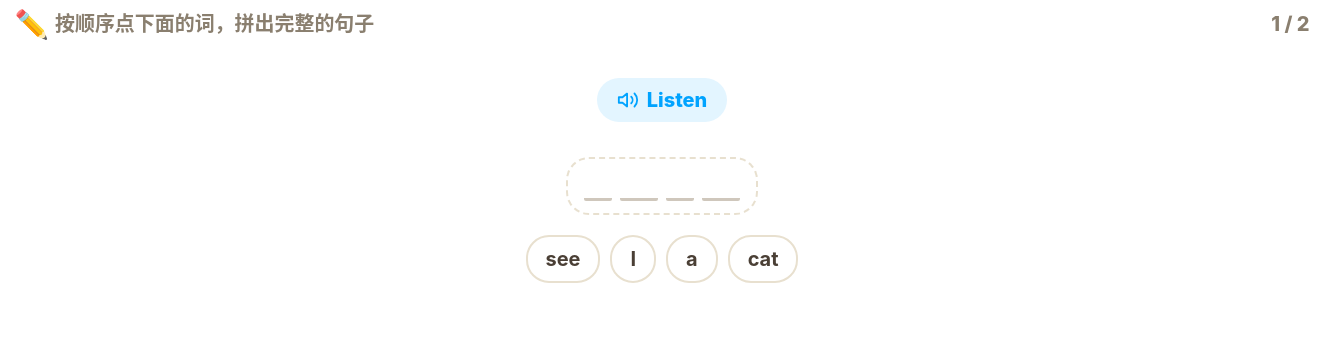
Test case: OrderView › 拼完第一句后显示 Next 按钮，点 Next 才切到第二句
Click the button with class "word-chip" showing "I".
click(633, 259)  # box [610,235,656,283]
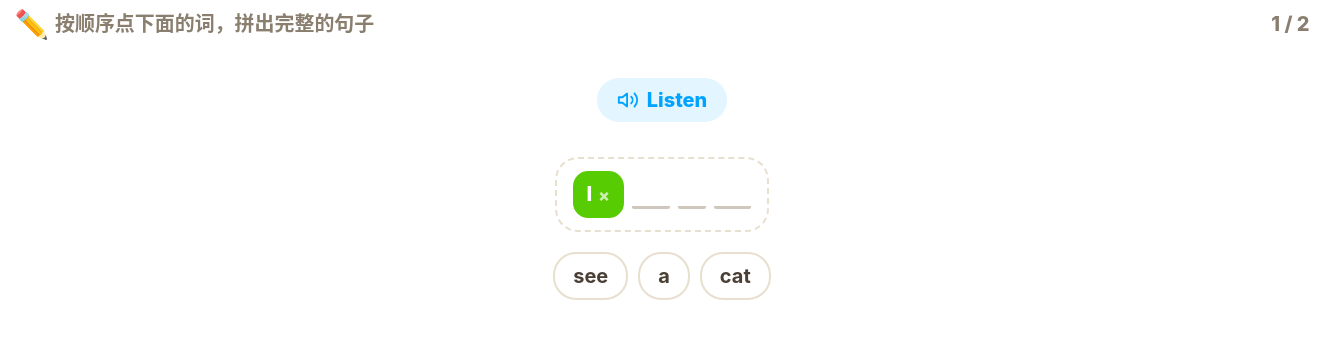
Click the button with class "word-chip" showing "see".
click(591, 276)  # box [553,252,628,300]
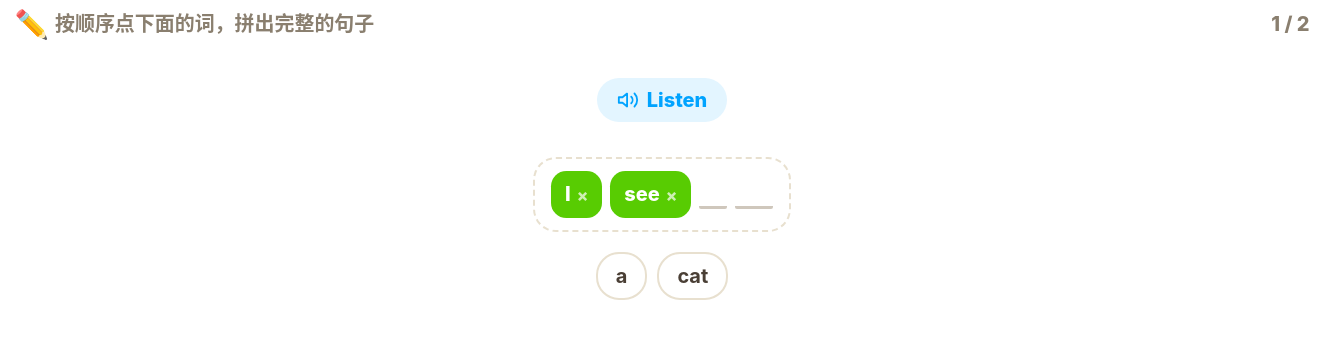
Click the button with class "word-chip" showing "a".
click(622, 276)  # box [596,252,647,300]
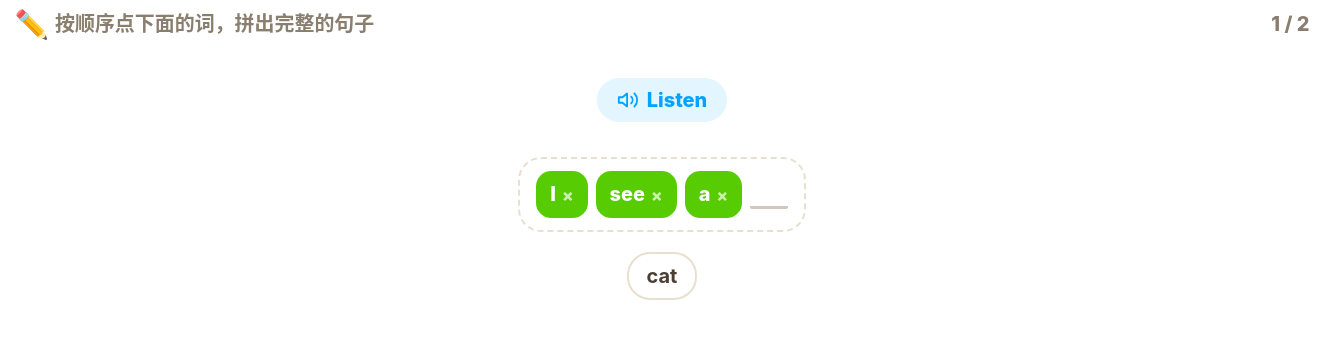
Click the button with class "word-chip".
click(662, 276)  # box [627,252,697,300]
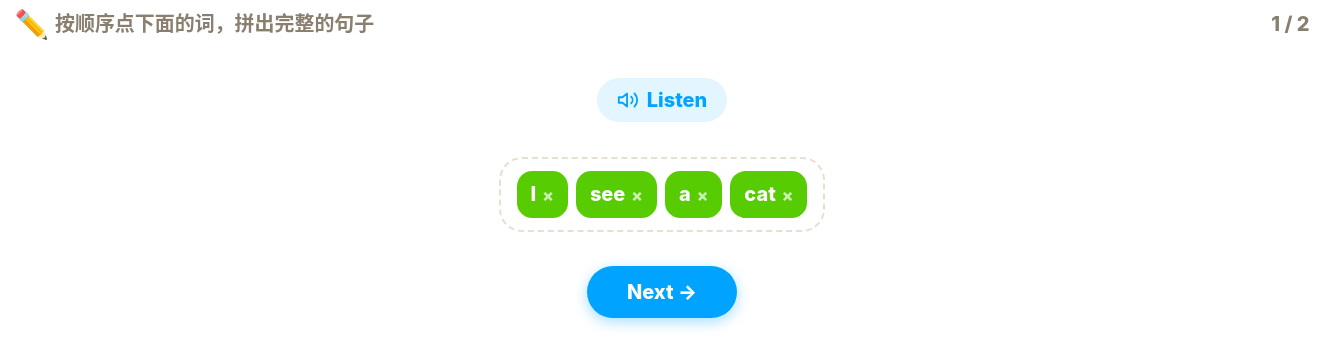
Expected: the text "Next" is shown
Expected: no buttons with class "word-chip" are shown
Click the button with class "next-btn".
click(662, 292)  # box [587,266,737,318]
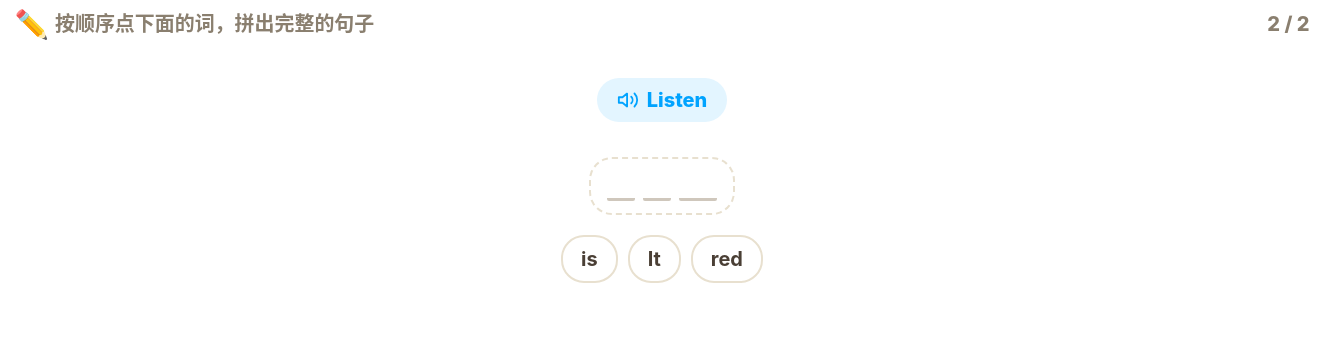
Expected: the button with class "word-chip" reads "red", [691,235,763,283]
Expected: the button with class "word-chip" reads "It", [628,235,681,283]
